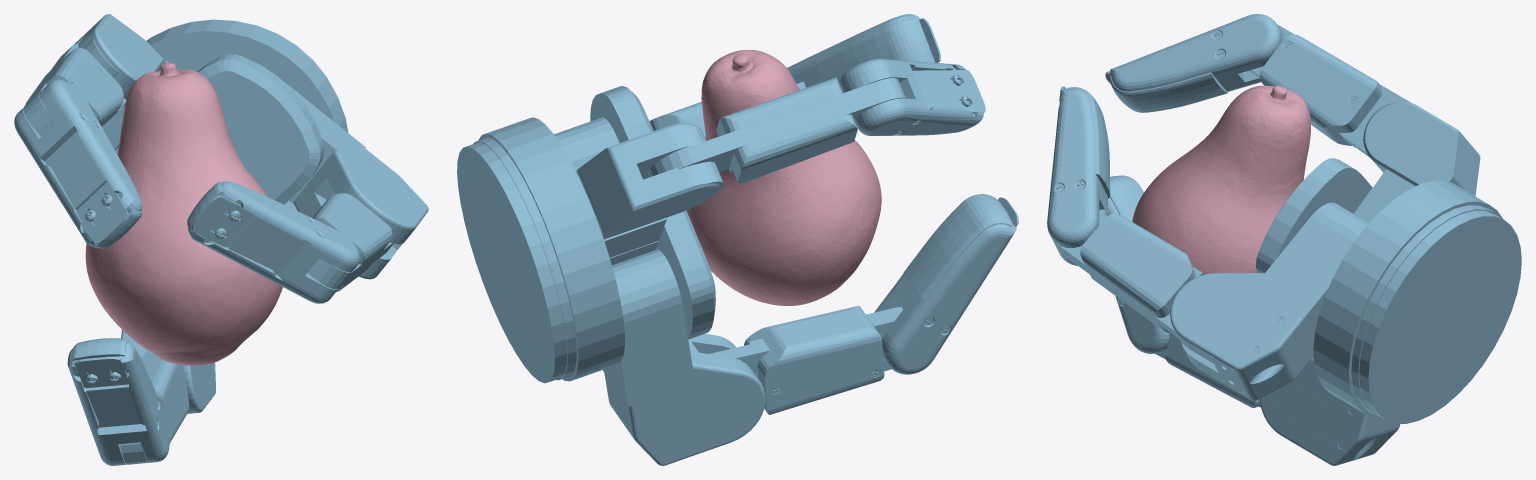
3 renders of one model, left to right at view 1: azimuth 30°, elevation 25°; view 2: azimuth 150°, elevation 25°; view 3: azimuth 270°, elevation 25°, orthographic. The views are drawn at different scales.
Visible parts, largest first — view 1: world, pear.stl; view 2: world, pear.stl; view 3: world, pear.stl.
Part boxes in pixels (x1,y1,x2,y2): world: (14, 14, 428, 465); pear.stl: (85, 62, 282, 365); world: (457, 14, 1018, 465); pear.stl: (686, 50, 881, 305); world: (1047, 14, 1521, 465); pear.stl: (1132, 85, 1310, 274).
Size of the model in its own units: 0.1666 by 0.1493 by 0.1733.
